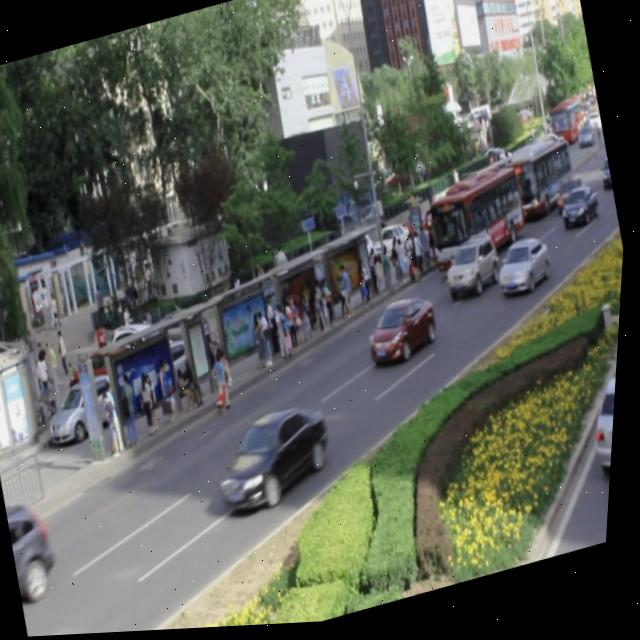car: (213, 399, 346, 518), (6, 490, 72, 602), (363, 294, 446, 374), (440, 236, 507, 306), (493, 236, 557, 301), (557, 188, 604, 240), (552, 179, 592, 224)
van: (417, 163, 533, 282), (492, 135, 581, 231)
